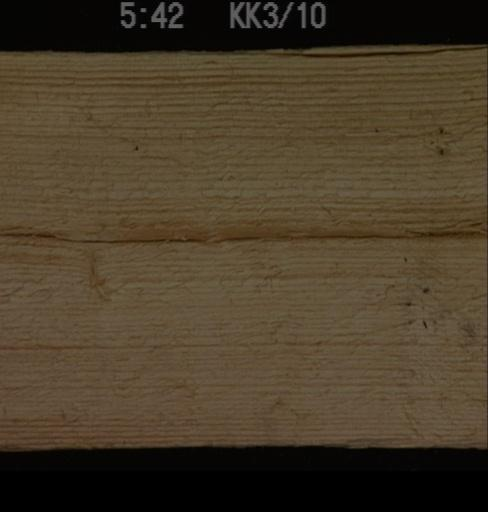small_knot: (84, 253, 113, 300)
split: (212, 227, 486, 241), (0, 229, 207, 243)
